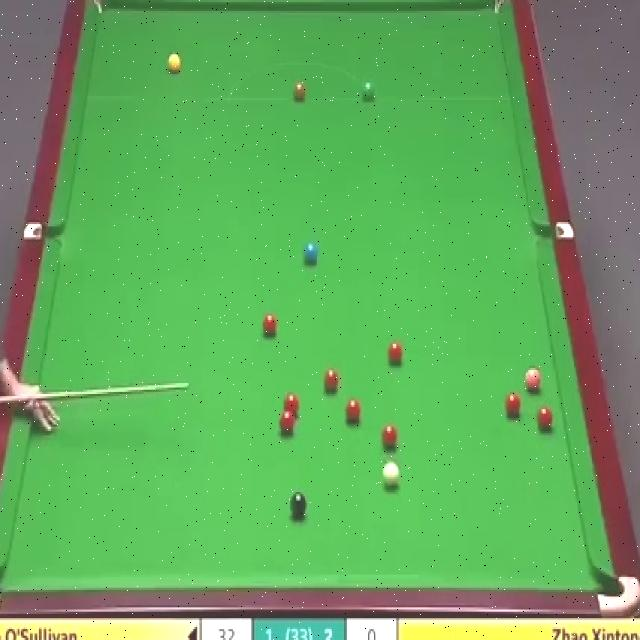black-ball: (289, 489, 306, 520)
blue-ball: (304, 239, 318, 267)
brown-ball: (292, 82, 308, 101)
green-ball: (361, 79, 376, 103)
pink-ball: (524, 369, 543, 390)
red-ball: (278, 409, 295, 437), (344, 398, 361, 425), (382, 424, 400, 449), (388, 339, 404, 367), (282, 392, 300, 416), (503, 392, 522, 414), (538, 404, 554, 429), (324, 368, 339, 394), (262, 311, 276, 336)
white-ball: (382, 460, 399, 488)
yellow-ball: (168, 55, 181, 75)
